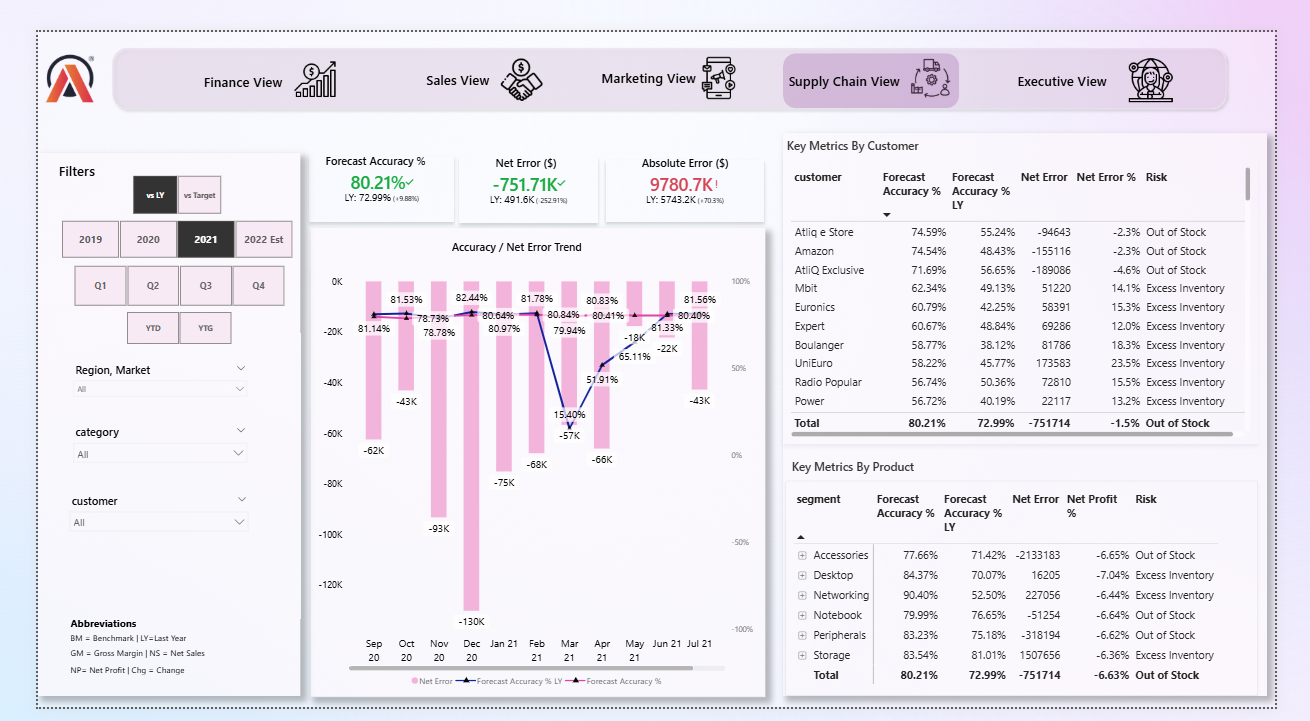

The page's visual inventory and layout, read from the dashboard file:
{"tool":"powerbi","page":{"name":"Supply Chain View","canvas":[1980,1080],"ordinal":4},"visuals":[{"type":"shape","box":[436,314,728,750],"z":0},{"type":"group","id":"g1","title":"Group 3","box":[52.5,956,265.7,74.3],"z":0,"group":"g2"},{"type":"shape","box":[52.8,956,264,24],"z":0,"group":"g1"},{"type":"shape","box":[1192,162,774,900],"z":1000},{"type":"shape","box":[52.5,927.5,237.5,35],"z":1000,"group":"g2"},{"type":"shape","box":[52.5,982.3,264.3,22.9],"z":1000,"group":"g1"},{"type":"shape","box":[0,194,420,868],"z":2000},{"type":"shape","box":[52.5,1007.4,265.7,22.9],"z":2000,"group":"g1"},{"type":"lineClusteredColumnComboChart","fields":{"Category":["dim_date.date"],"Y2":["Key Measures.Forecast Accuracy % LY","Key Measures.Forecast Accuracy %"],"Y":["Key Measures.Net Error"]},"box":[435,375,727.5,687.5],"z":3000},{"type":"kpi","fields":{"TrendLine":["dim_date.fiscal_year"],"Goal":["Key Measures.Forecast Accuracy % LY"],"Indicator":["Key Measures.Forecast Accuracy %"]},"box":[434,198,232,106],"z":4000},{"type":"kpi","fields":{"TrendLine":["dim_date.fiscal_year"],"Goal":["Key Measures.ABS Error LY"],"Indicator":["Key Measures.ABS Error"]},"box":[908,204,254,100],"z":5000},{"type":"image","box":[12,26,80,96],"z":6000},{"type":"tableEx","fields":{"Values":["dim_customer.customer","Key Measures.Forecast Accuracy %","Key Measures.Forecast Accuracy % LY","Key Measures.Net Error","Key Measures.Net Error %","Key Measures.Risk"]},"box":[1192,204,760,456],"z":7000},{"type":"pivotTable","fields":{"Rows":["dim_product.segment","dim_product.category","dim_product.product"],"Values":["Key Measures.Forecast Accuracy %","Key Measures.Forecast Accuracy % LY","Key Measures.Net Error","Key Measures.Net Profit %","Key Measures.Risk"]},"box":[1196,718,756,344],"z":8000},{"type":"slicer","fields":{"Values":["fiscal_year.fy_desc"]},"box":[18.8,300,407.5,62.5],"z":9000},{"type":"slicer","fields":{"Values":["dim_date.quarters"]},"box":[38.8,372.5,375,67.5],"z":10000},{"type":"slicer","fields":{"Values":["dim_date.ytd_ytg"]},"box":[122.5,445,206.2,55],"z":11000},{"type":"slicer","fields":{"Values":["dim_market.region","dim_customer.market"]},"box":[52.5,527.5,287.5,80],"z":12000},{"type":"slicer","fields":{"Values":["dim_product.category"]},"box":[52.5,627.5,287.5,65],"z":13000},{"type":"slicer","fields":{"Values":["Set BM.Benchmarks"]},"box":[132,228,180,64],"z":14000},{"type":"slicer","fields":{"Values":["dim_customer.customer"]},"box":[45,737.5,295,77.5],"z":15000},{"type":"group","id":"g2","title":"Group 5","box":[52.5,927.5,265.7,102.8],"z":16000},{"type":"shape","box":[110,16,1800,116],"z":17000},{"type":"image","box":[740,36,68,80],"z":18000},{"type":"image","box":[1053.9,35.6,70,75],"z":19000},{"type":"image","box":[1396.1,33.3,65,80],"z":20000},{"type":"image","box":[1743.9,31.2,72.5,90],"z":21000},{"type":"shape","box":[1192,34,282,88],"z":22000},{"type":"textbox","box":[260.8,60.3,160,45],"z":23000},{"type":"textbox","box":[615.3,56.1,147.5,50],"z":24000},{"type":"textbox","box":[895.1,53.1,202.5,47.5],"z":25000},{"type":"textbox","box":[1561.4,58.7,182.5,40],"z":26000},{"type":"textbox","box":[1196.1,58.3,210,40],"z":27000},{"type":"image","box":[408.3,37.8,70,75],"z":28000},{"type":"shape","box":[460,190,196,32],"z":29000},{"type":"shape","box":[732,192,128,32],"z":30000},{"type":"shape","box":[966,192,180,32],"z":31000},{"type":"kpi","fields":{"TrendLine":["dim_date.fiscal_year"],"Indicator":["Key Measures.Net Error"],"Goal":["Key Measures.Net Error LY"]},"box":[674,200,222,106],"z":32000},{"type":"shape","box":[662,318,240,50],"z":33000},{"type":"shape","box":[1198,166,418,30],"z":34000},{"type":"shape","box":[1206,680,246,30],"z":35000},{"type":"textbox","box":[28,202,100,50],"z":36000}]}

Visuals, with their boxes in screenshot pixels (x1, y1, x2, y2), scaled from the page's 1980x1080 canvas onto the 1310x721 screenshot:
shape: [288,210,770,710]
"Group 3" group: [35,638,211,688]
shape: [35,638,210,654]
shape: [789,108,1301,709]
shape: [35,619,192,643]
shape: [35,656,210,671]
shape: [0,130,278,709]
shape: [35,673,211,688]
lineClusteredColumnComboChart - dim_date.date x Key Measures.Forecast Accuracy % LY: [288,250,769,709]
kpi - dim_date.fiscal_year x Key Measures.Forecast Accuracy % LY: [287,132,441,203]
kpi - dim_date.fiscal_year x Key Measures.ABS Error LY: [601,136,769,203]
image: [8,17,61,81]
tableEx - dim_customer.customer x Key Measures.Forecast Accuracy %: [789,136,1291,441]
pivotTable - dim_product.segment x dim_product.category: [791,479,1291,709]
slicer - fiscal_year.fy_desc: [12,200,282,242]
slicer - dim_date.quarters: [26,249,274,294]
slicer - dim_date.ytd_ytg: [81,297,217,334]
slicer - dim_market.region x dim_customer.market: [35,352,225,406]
slicer - dim_product.category: [35,419,225,462]
slicer - Set BM.Benchmarks: [87,152,206,195]
slicer - dim_customer.customer: [30,492,225,544]
"Group 5" group: [35,619,211,688]
shape: [73,11,1264,88]
image: [490,24,535,77]
image: [697,24,744,74]
image: [924,22,967,76]
image: [1154,21,1202,81]
shape: [789,23,975,81]
textbox: [173,40,278,70]
textbox: [407,37,505,71]
textbox: [592,35,726,67]
textbox: [1033,39,1154,66]
textbox: [791,39,930,66]
image: [270,25,316,75]
shape: [304,127,434,148]
shape: [484,128,569,150]
shape: [639,128,758,150]
kpi - dim_date.fiscal_year x Key Measures.Net Error: [446,134,593,204]
shape: [438,212,597,246]
shape: [793,111,1069,131]
shape: [798,454,961,474]
textbox: [19,135,85,168]
